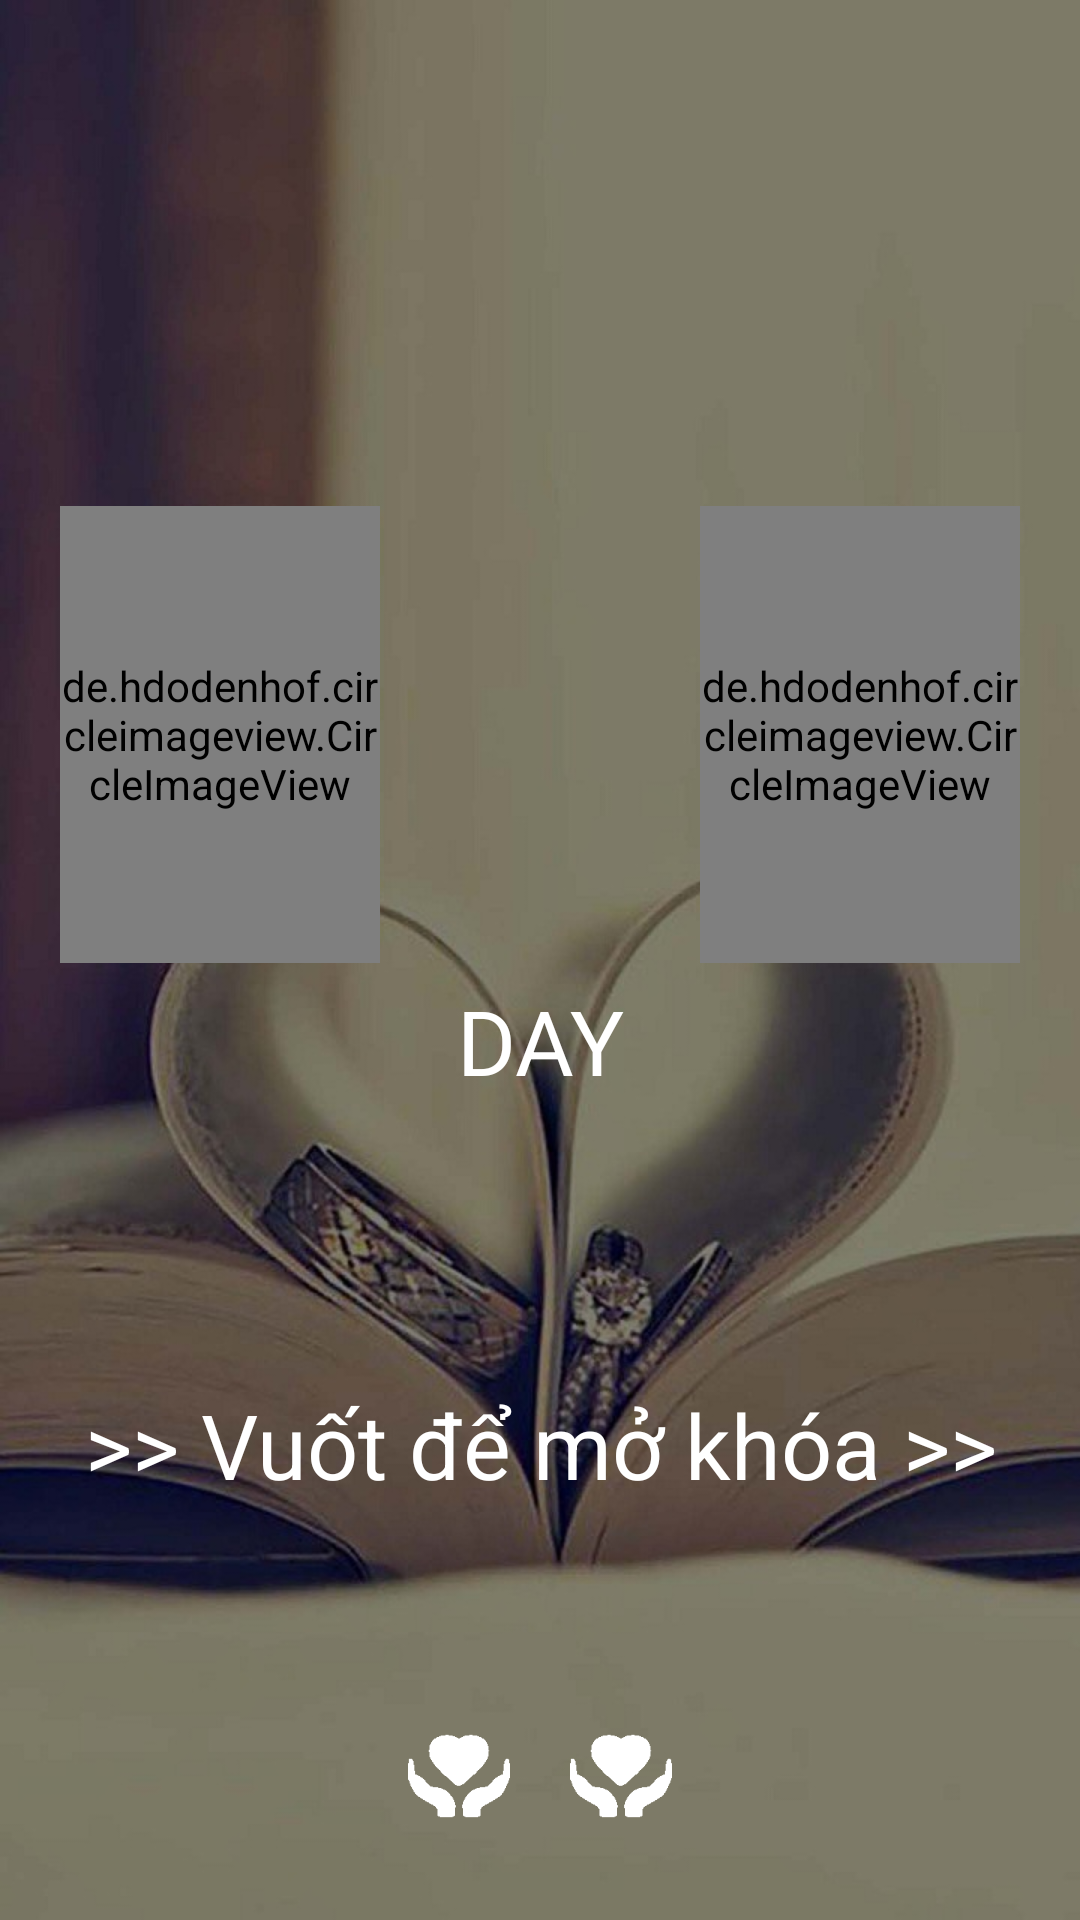

Where icons sit on this 1080px x 1920px app screen, as (x1, y1, x2, y2):
heart: (408, 1734, 510, 1818), (570, 1734, 672, 1818)
